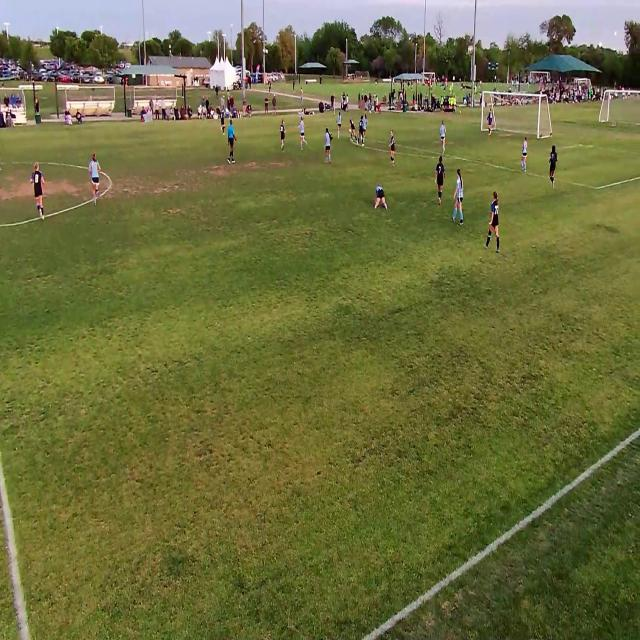ball: (348, 128, 352, 133)
team1: (487, 193, 503, 254), (33, 163, 47, 220), (436, 155, 448, 204), (548, 143, 558, 191), (374, 182, 388, 212), (391, 129, 398, 167), (348, 114, 356, 144), (279, 119, 286, 152), (357, 114, 364, 147), (220, 108, 226, 137)
team2: (89, 154, 102, 207), (454, 169, 466, 226), (324, 126, 334, 166), (520, 137, 528, 175), (300, 114, 308, 152), (440, 121, 447, 153), (363, 112, 369, 146), (337, 110, 343, 138)
